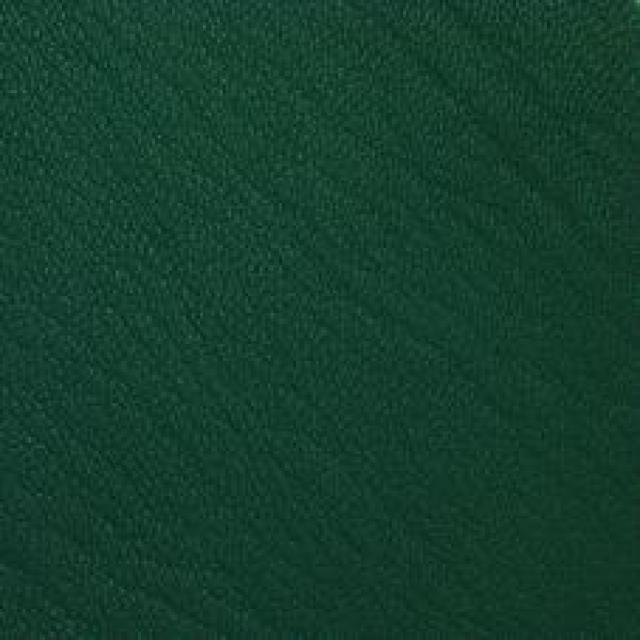Growth Marks: (156, 90, 361, 323), (382, 19, 602, 207)
